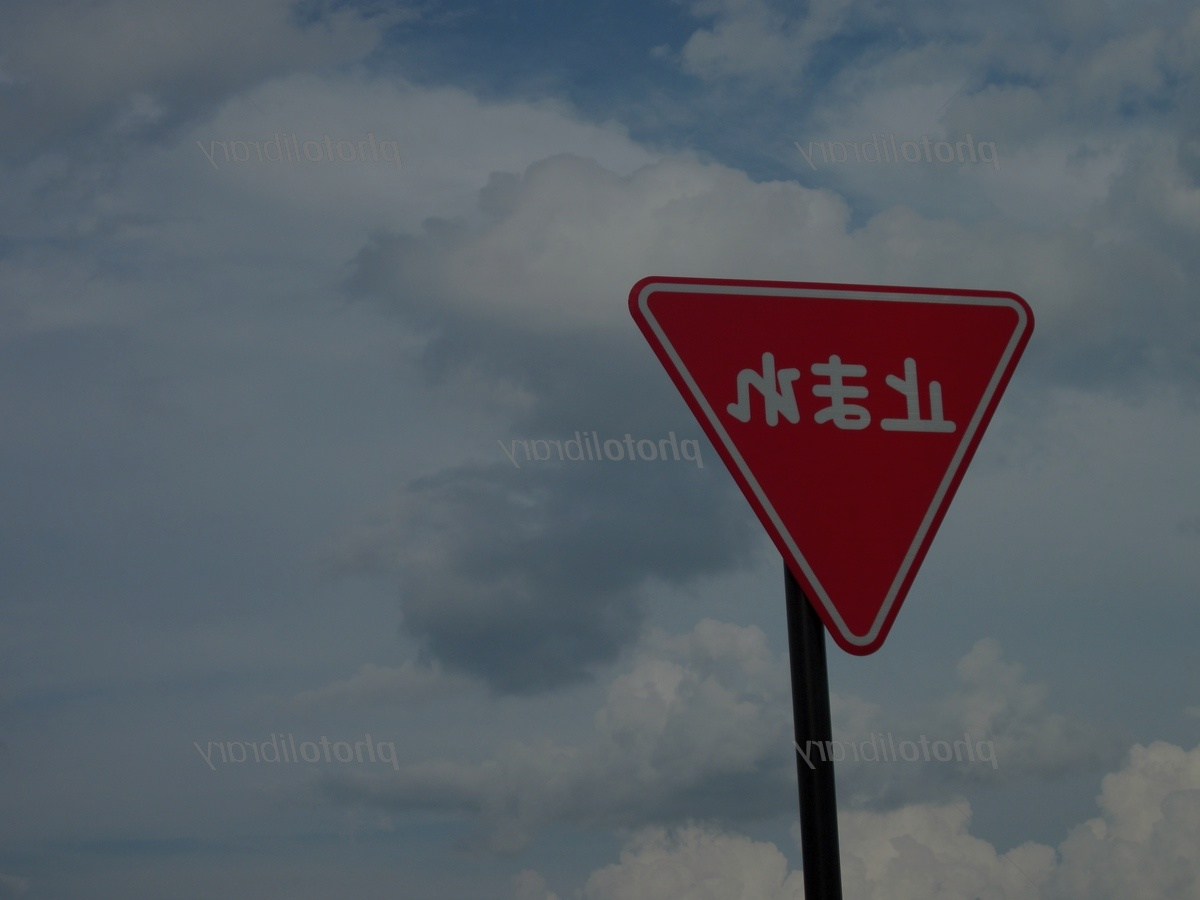Regulatory_sign_triangle: (615, 256, 1046, 662)
